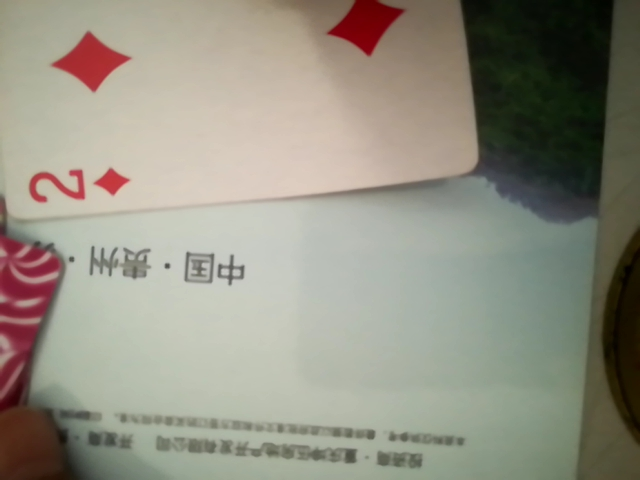fk 2: (0, 0, 484, 223)
